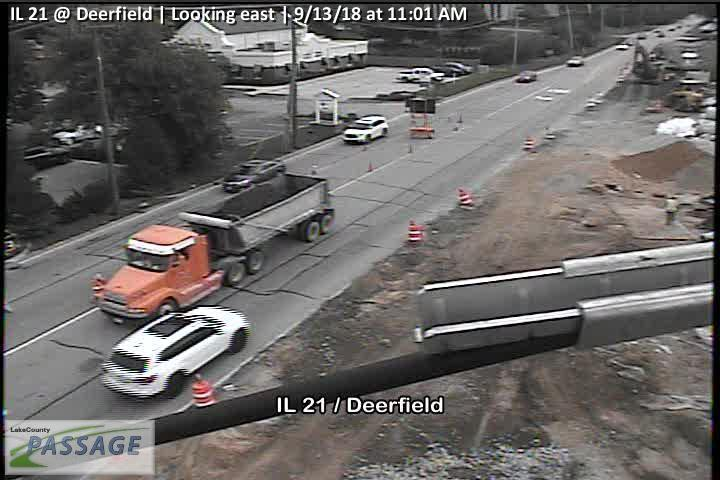SUV: (100, 305, 248, 397), (343, 116, 389, 142)
Sedan: (223, 159, 284, 188), (516, 70, 536, 81), (567, 55, 583, 65)
Truck: (91, 173, 335, 321)
